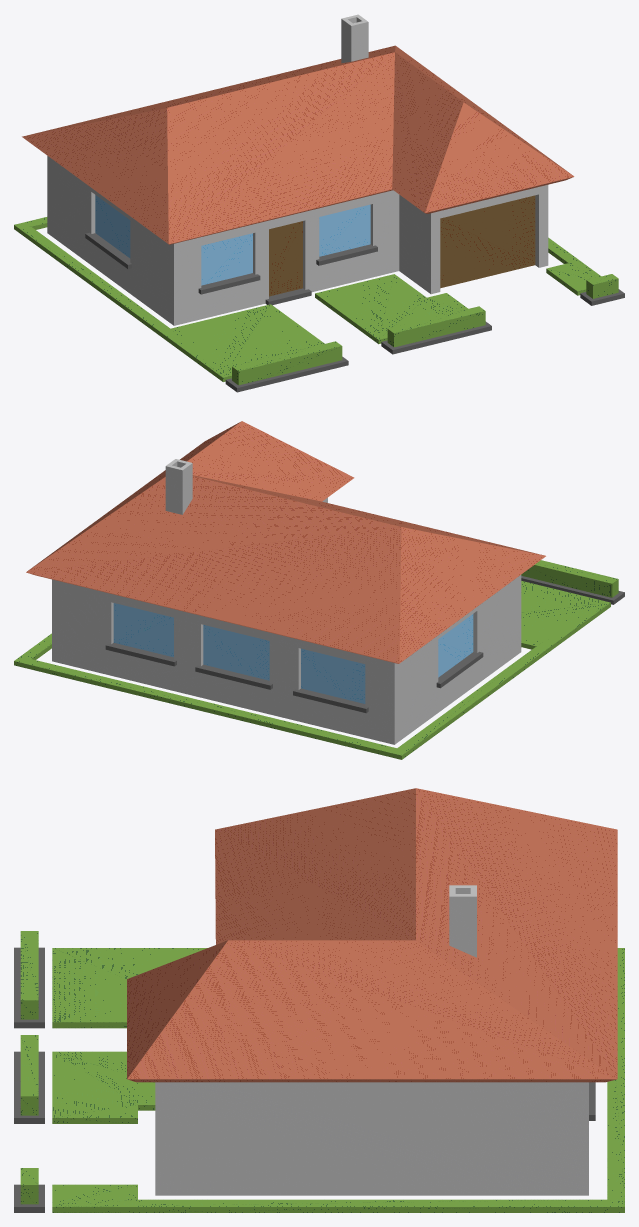
File: house3.fbx
The picture shows the model from 3 angles, top to bottom: view 1: azimuth 30°, elevation 25°; view 2: azimuth 150°, elevation 25°; view 3: azimuth 270°, elevation 25°; orthographic projection. The views are drawn at different scales.
Parts seen in each view (by area): view 1: House; view 2: House; view 3: House.
Boxes of the visible parts, left/top/right/bottom form: House: left=14, top=14, right=624, bottom=392; House: left=14, top=421, right=624, bottom=759; House: left=14, top=788, right=624, bottom=1212.
Bounding box in the file's own units: 973 × 440 × 970.
Materials: 1 (1 with a texture image).
